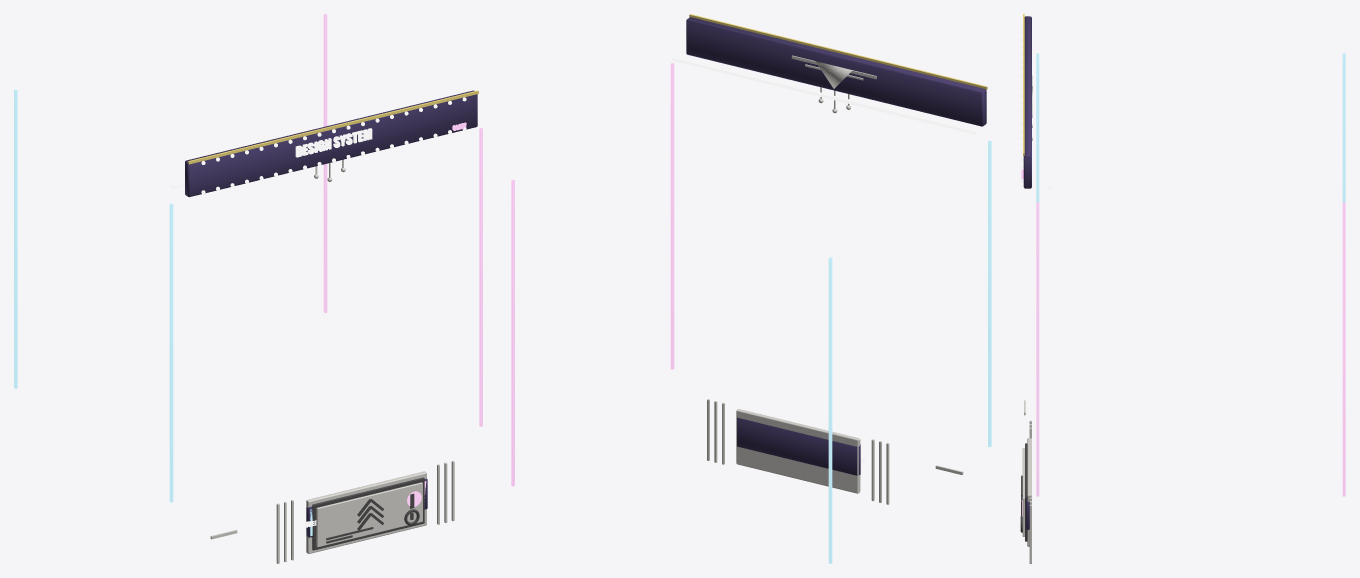
The model's file is claw-cabinet-deco.glb.
3 renders of one model, left to right at view 1: azimuth 30°, elevation 25°; view 2: azimuth 150°, elevation 25°; view 3: azimuth 270°, elevation 25°, orthographic. The views are drawn at different scales.
Visible parts, largest first — view 1: deco_foil, deco_broadsheet; view 2: deco_foil, deco_broadsheet; view 3: deco_foil, deco_broadsheet.
Boxes of the visible parts, box(x1,y1,x2,y2) form: deco_foil: box(14, 14, 482, 537); deco_broadsheet: box(210, 159, 454, 563); deco_foil: box(511, 14, 991, 563); deco_broadsheet: box(707, 55, 963, 504); deco_foil: box(1020, 14, 1345, 530); deco_broadsheet: box(1020, 75, 1032, 563).
Size of the model in its own units: 6.03 by 7.89 by 5.52.
